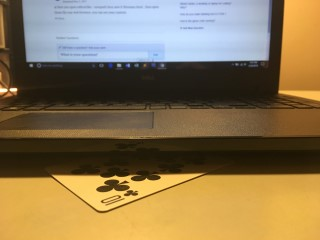TenOfClubs: (45, 155, 248, 211)
